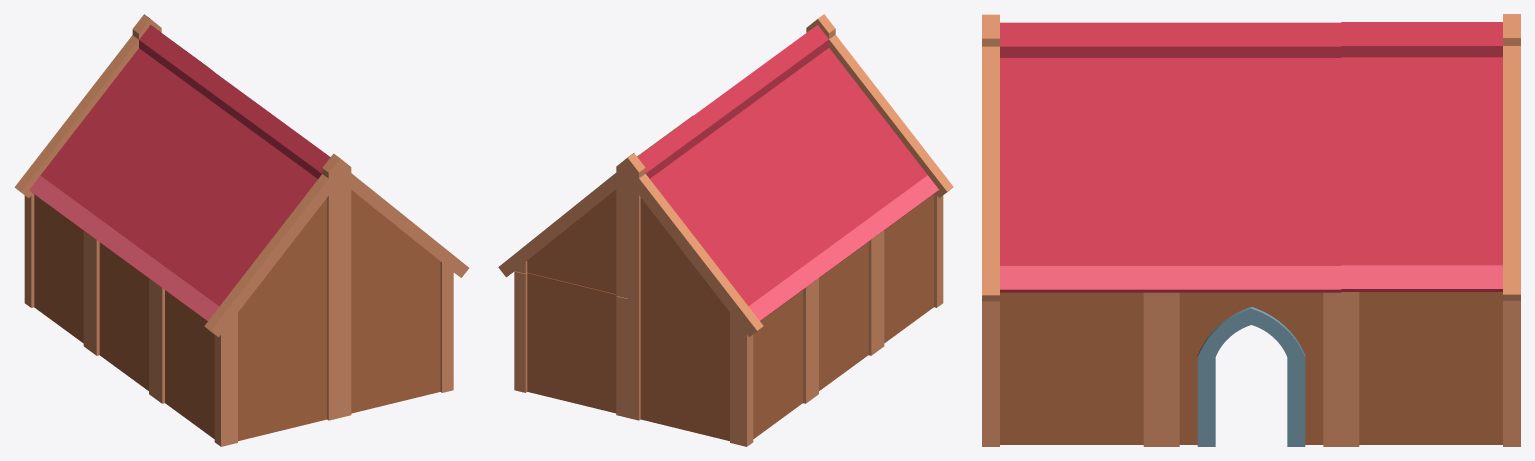
The model's file is house.glb.
3 views of the same model, side by side, from view 1: azimuth 30°, elevation 25°; view 2: azimuth 150°, elevation 25°; view 3: azimuth 270°, elevation 25° (orthographic). The views are drawn at different scales.
Parts seen in each view (by area): view 1: roofHighLeft.001, roofHighRight.001, roofHigh.001, wallWood, wallWood.003, wallWood.007, roofHighLeft, wallWood.006, wallWood.008, wallWood.001; view 2: roofHighRight.001, roofHighLeft.001, roofHigh.001, wallWood.004, wallWood.005, roofHighRight, wallWood.006, wallWood.008, wallWood.007, wallWood.002; view 3: roofHighLeft, roofHigh, roofHighRight, wallWood.001, wallWood.002, wallWoodDoorwayRound, wallWood.005, wallWood.
Part boxes in pixels (x1,y1,x2,y2): roofHighLeft.001: [153, 116, 339, 337]; roofHighRight.001: [14, 15, 208, 232]; roofHigh.001: [88, 68, 274, 280]; wallWood: [340, 272, 453, 417]; wallWood.003: [226, 299, 339, 443]; wallWood.007: [155, 283, 232, 446]; roofHighLeft: [340, 158, 468, 299]; wallWood.006: [24, 192, 90, 350]; wallWood.008: [90, 235, 155, 398]; wallWood.001: [440, 272, 453, 392]; roofHighRight.001: [627, 116, 814, 336]; roofHighLeft.001: [759, 14, 953, 232]; roofHigh.001: [693, 68, 879, 281]; wallWood.004: [627, 299, 741, 445]; wallWood.005: [514, 271, 627, 417]; roofHighRight: [498, 115, 693, 298]; wallWood.006: [735, 283, 812, 446]; wallWood.008: [812, 235, 877, 398]; wallWood.007: [878, 192, 943, 350]; wallWood.002: [514, 271, 527, 392]; roofHighLeft: [982, 14, 1161, 301]; roofHigh: [1161, 22, 1341, 292]; roofHighRight: [1341, 14, 1520, 300]; wallWood.001: [982, 292, 1161, 446]; wallWood.002: [1341, 292, 1511, 446]; wallWoodDoorwayRound: [1161, 292, 1341, 446]; wallWood.005: [1503, 300, 1520, 446]; wallWood: [982, 301, 999, 446].
Size of what is drawn, in the model's own units: 2.28 by 2.19 by 3.
